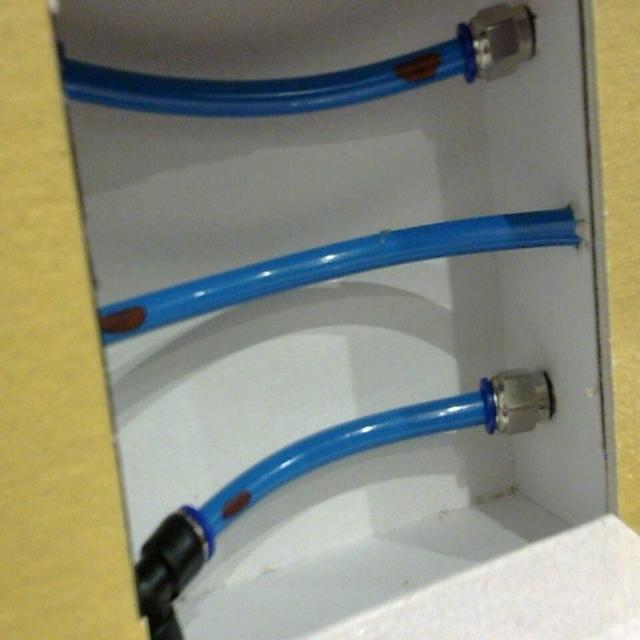hose_damage: (387, 35, 453, 100), (95, 291, 154, 357), (208, 473, 261, 530)
